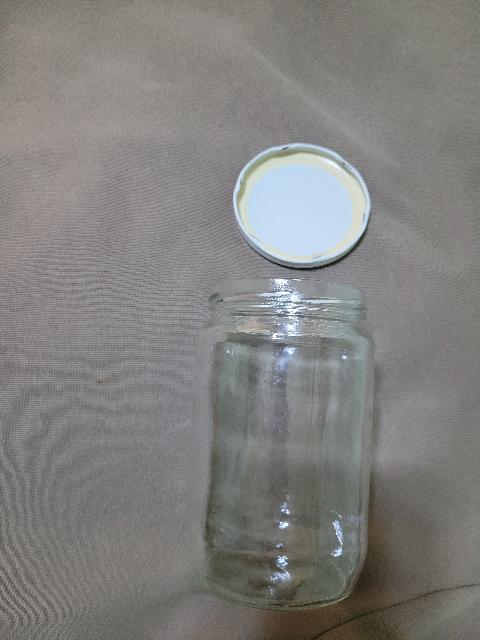Cam: (202, 284, 382, 612)
Metal: (233, 142, 377, 274)
